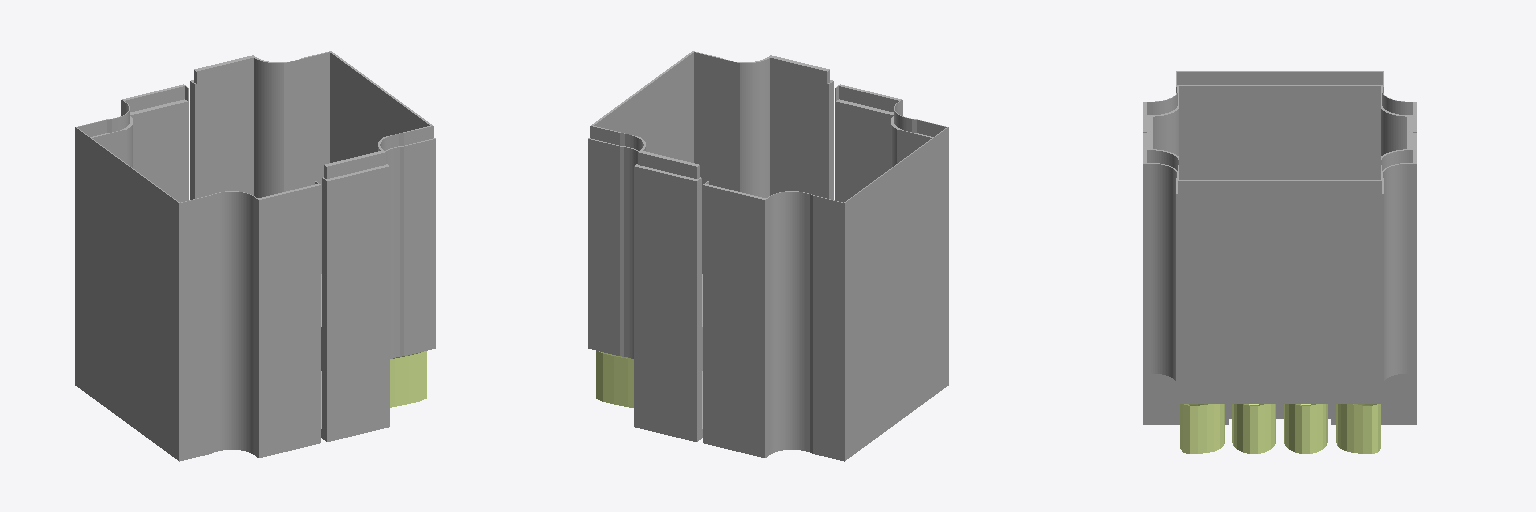
File: 12dpWheelsSamokat.obj
3 views of the same model, side by side, from view 1: azimuth 30°, elevation 25°; view 2: azimuth 150°, elevation 25°; view 3: azimuth 270°, elevation 25° (orthographic).
Visible parts, largest first — view 1: Object003, SamokatKorpus001, Tube002; view 2: Object003, SamokatKorpus001, Tube002; view 3: SamokatKorpus001, Object003, Tube002.
Boxes of the visible parts, x1,y1,x2,y2 form: Object003: [75, 84, 320, 461]; SamokatKorpus001: [190, 51, 435, 441]; Tube002: [390, 351, 426, 407]; Object003: [703, 84, 948, 461]; SamokatKorpus001: [588, 51, 833, 441]; Tube002: [596, 351, 633, 407]; SamokatKorpus001: [1143, 121, 1416, 424]; Object003: [1143, 71, 1416, 179]; Tube002: [1180, 404, 1380, 453].
Bounding box in the file's own units: 205 × 209 × 190.